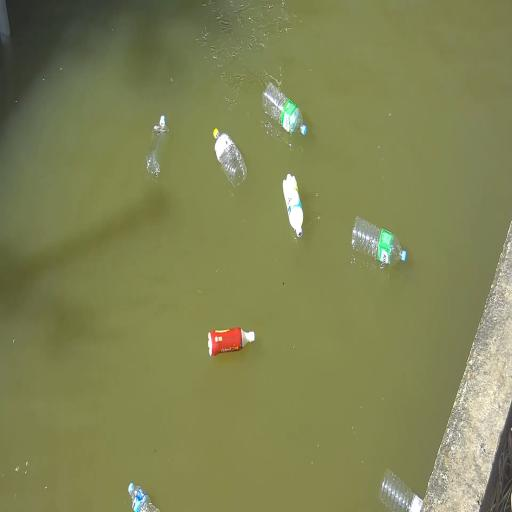plastic: (352, 217, 406, 265), (263, 82, 306, 135), (213, 128, 247, 190), (380, 470, 423, 511), (208, 328, 255, 356), (147, 116, 168, 178), (283, 174, 303, 237), (128, 483, 159, 511)
